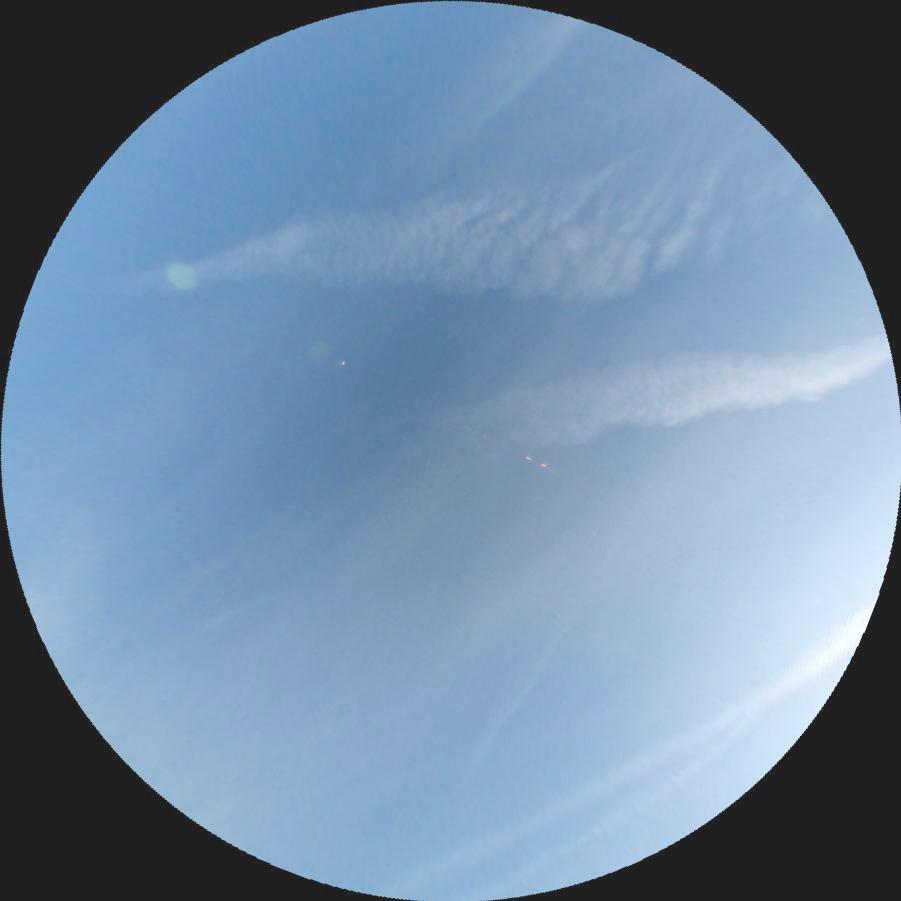contrail veryold: (109, 125, 807, 391), (377, 593, 896, 901), (422, 310, 894, 473)
